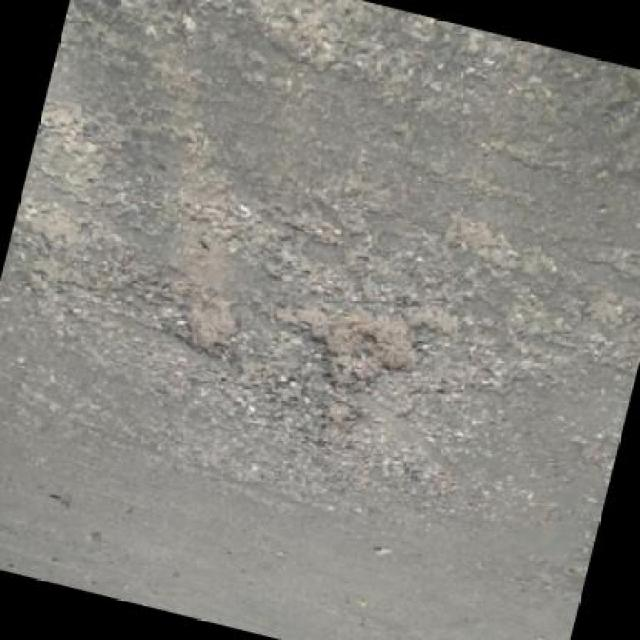pothole1: (286, 298, 436, 410), (177, 292, 251, 362)
